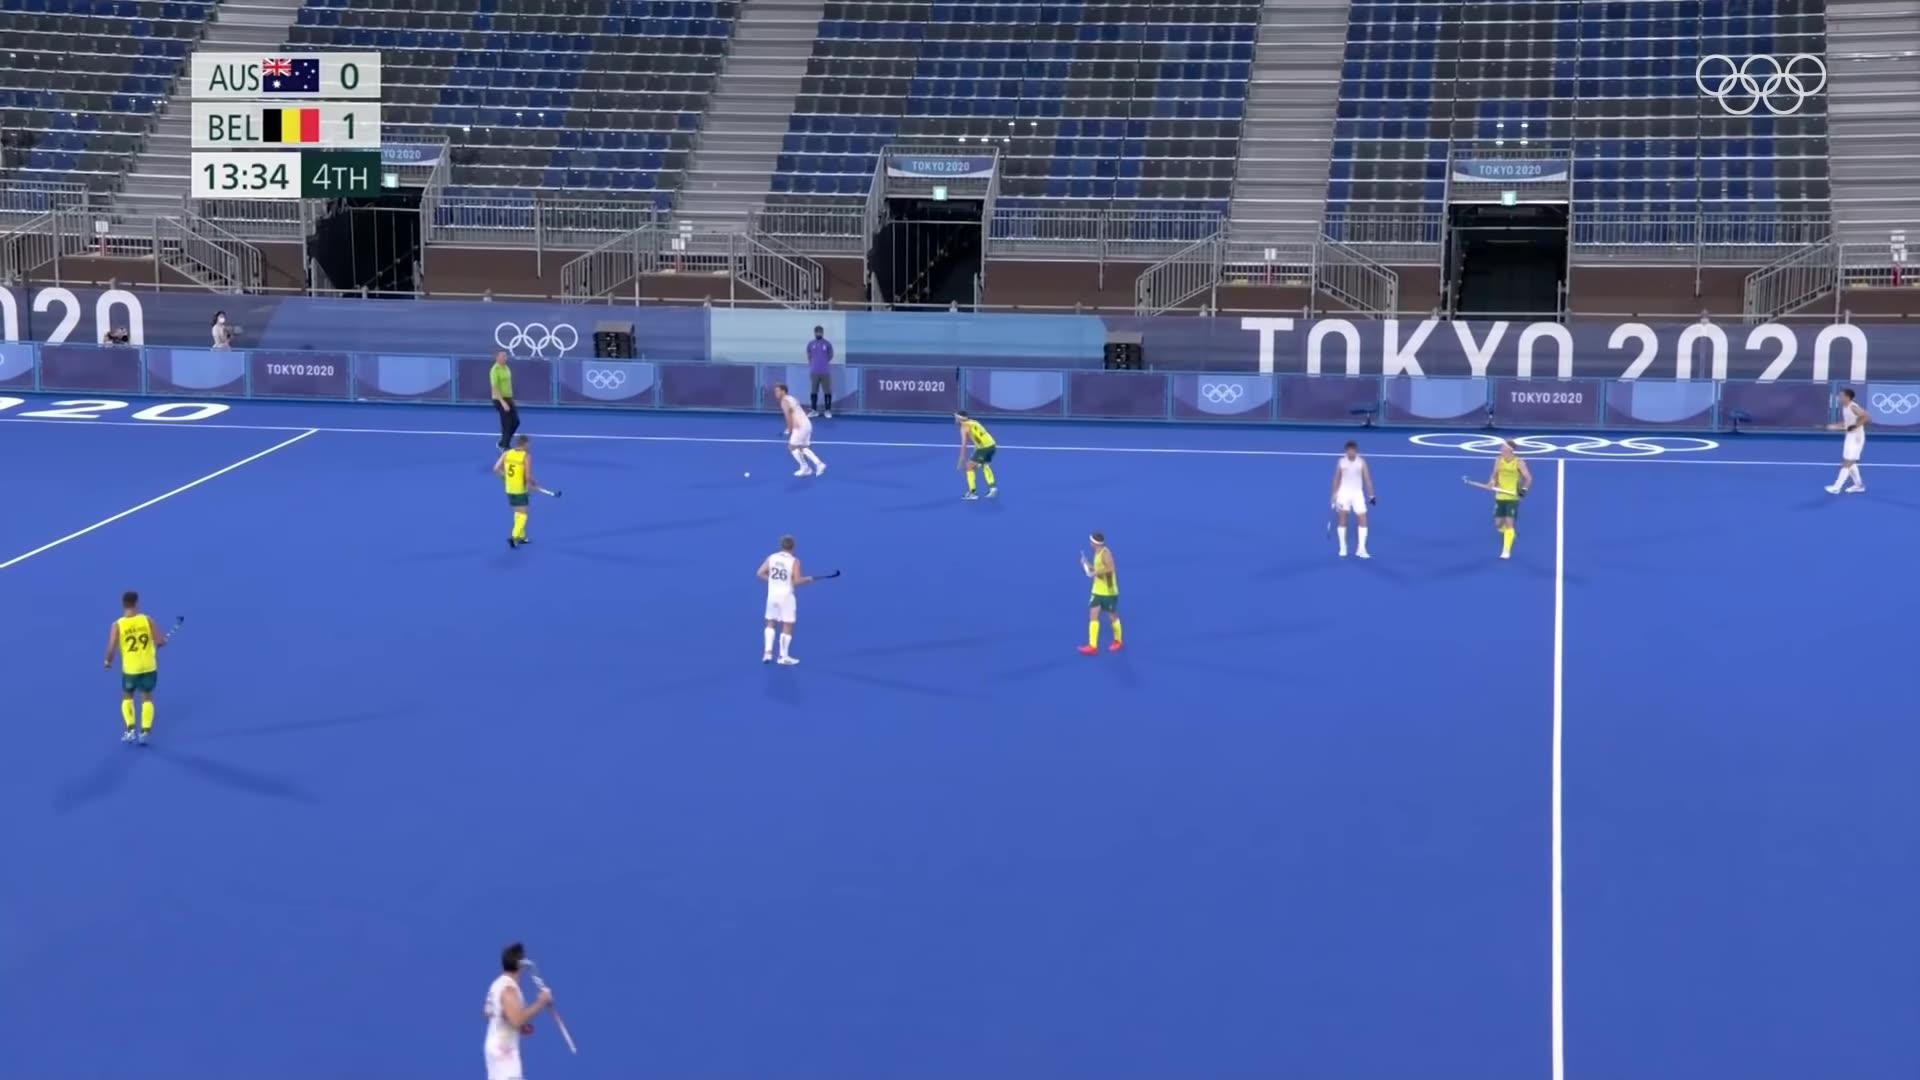ball: (741, 469, 753, 481)
